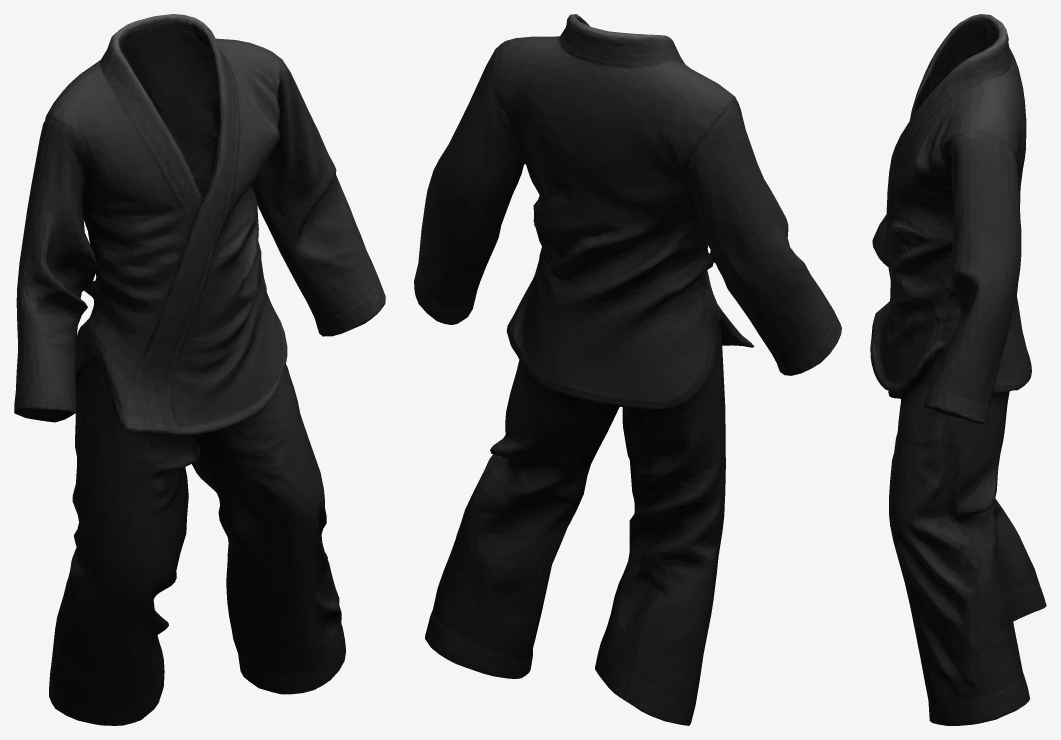
The model's file is kids-bjj-gi.glb.
3 renders of one model, left to right at view 1: azimuth 30°, elevation 25°; view 2: azimuth 150°, elevation 25°; view 3: azimuth 270°, elevation 25°, orthographic. The views are drawn at different scales.
Visible parts, largest first — view 1: geometry_0; view 2: geometry_0; view 3: geometry_0.
Boxes of the visible parts, x1,y1,x2,y2 form: geometry_0: [14, 14, 385, 725]; geometry_0: [414, 14, 841, 725]; geometry_0: [870, 14, 1046, 725].
Bounding box in the file's own units: 0.6023 × 0.9999 × 0.2524.
1 material, 1 textured.
